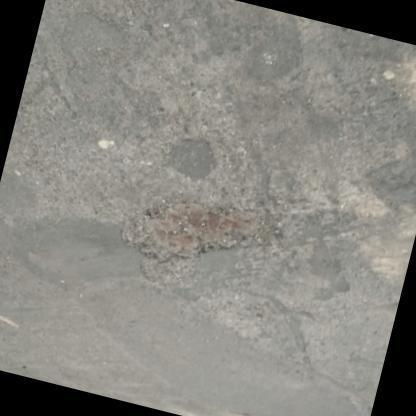pothole: (133, 183, 305, 259), (339, 171, 416, 290)
